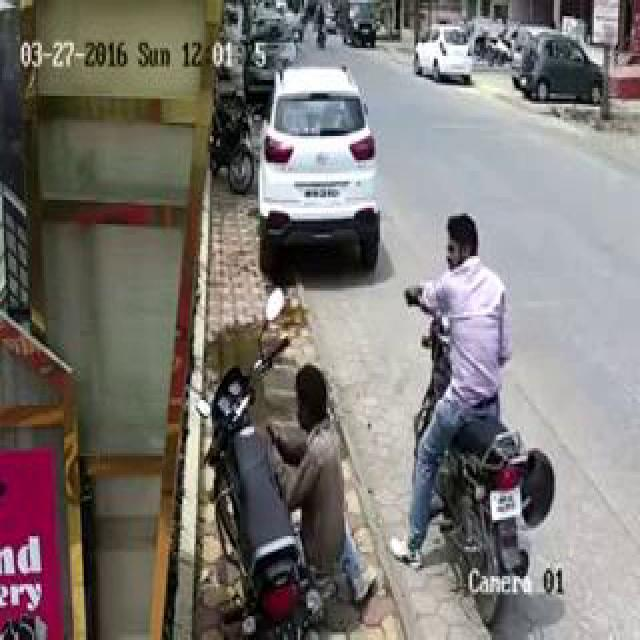stealing: (207, 199, 390, 635)
